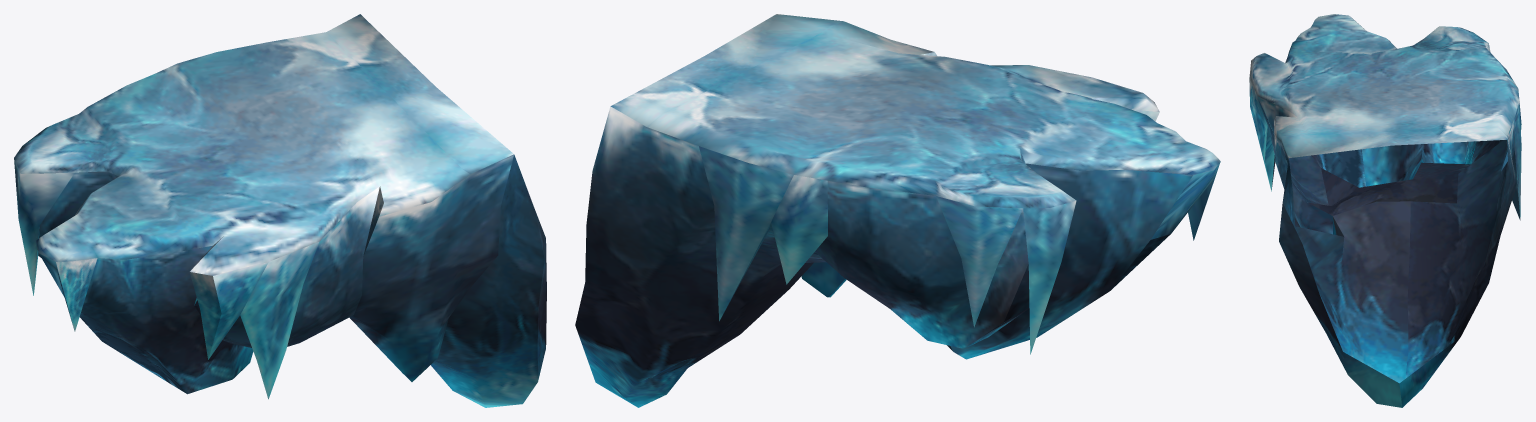
The model's file is bs_binshan_9.FBX.
3 views of the same model, side by side, from view 1: azimuth 30°, elevation 25°; view 2: azimuth 150°, elevation 25°; view 3: azimuth 270°, elevation 25° (orthographic). The views are drawn at different scales.
Visible parts, largest first — view 1: bs_binshan_9; view 2: bs_binshan_9; view 3: bs_binshan_9.
Part boxes in pixels (left/top/right/bottom): bs_binshan_9: left=14, top=14, right=546, bottom=407; bs_binshan_9: left=575, top=14, right=1220, bottom=407; bs_binshan_9: left=1249, top=14, right=1521, bottom=407.
Bounding box in the file's own units: 7735 × 4742 × 4713.
